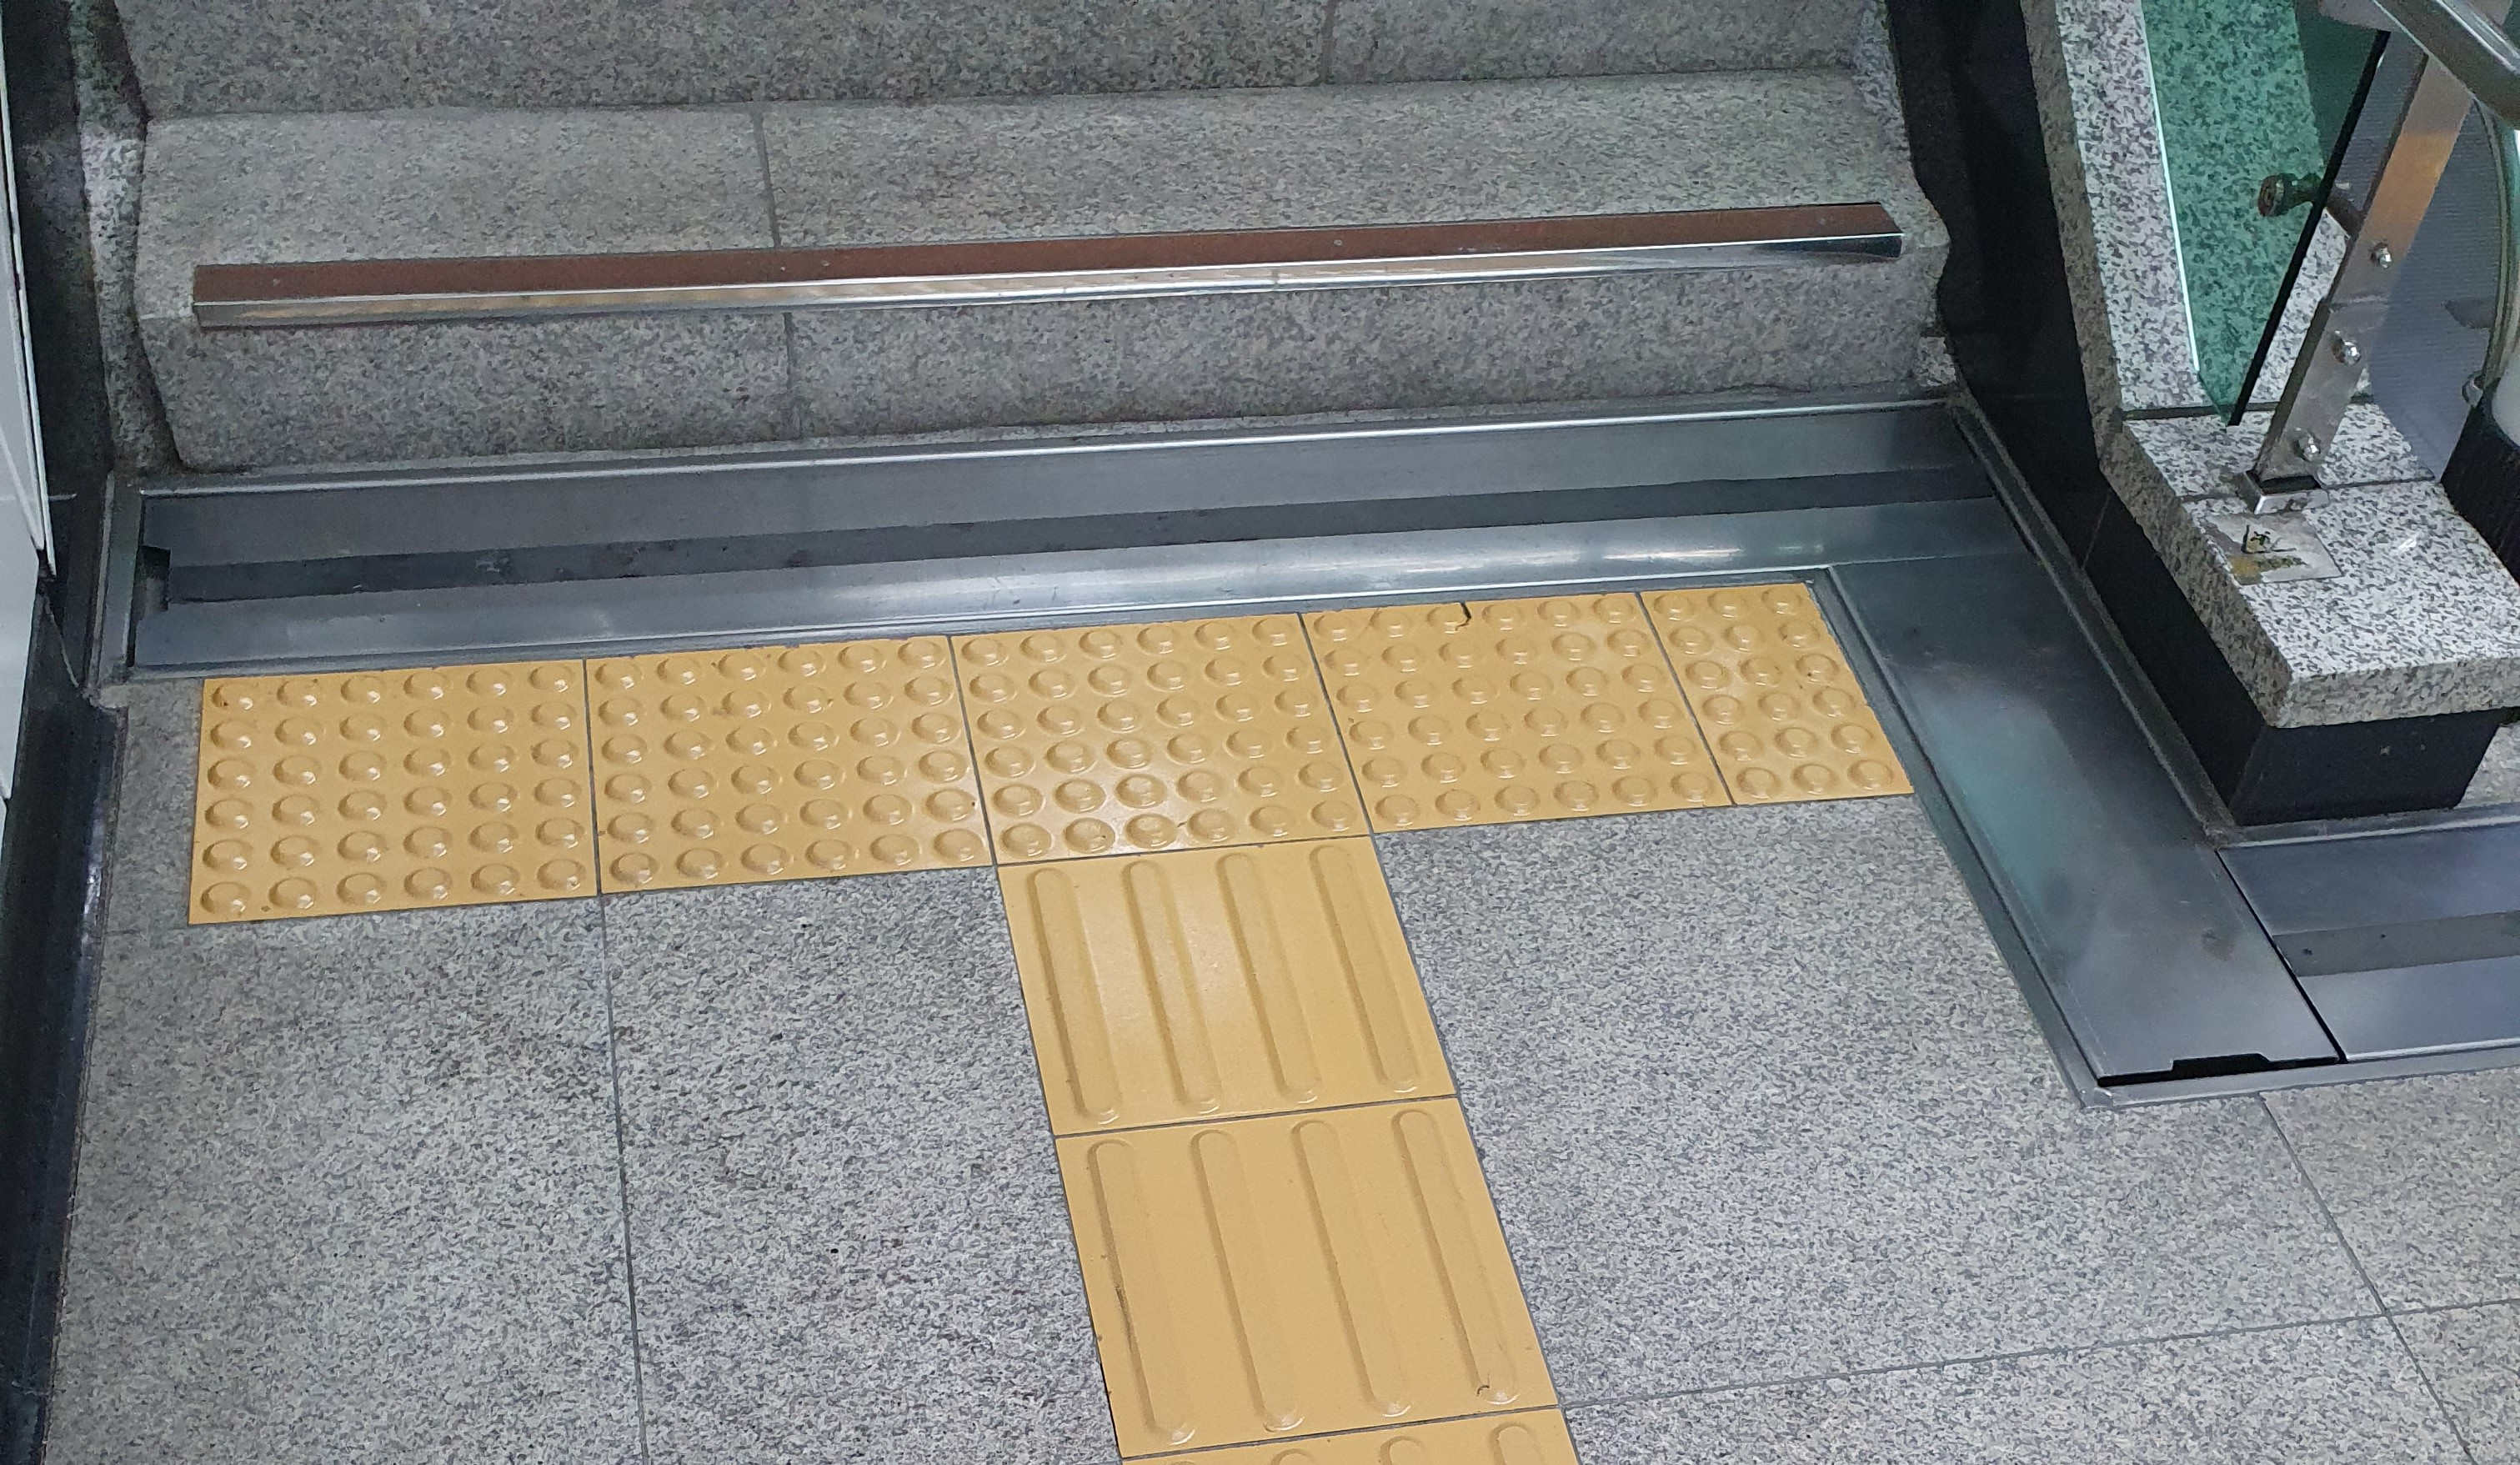guideBlock: (1072, 1114, 1548, 1448), (999, 837, 1408, 1102)
warningBlock: (575, 652, 1000, 874), (943, 614, 1340, 835), (1326, 595, 1704, 813), (218, 685, 570, 916), (1649, 572, 1910, 825)
